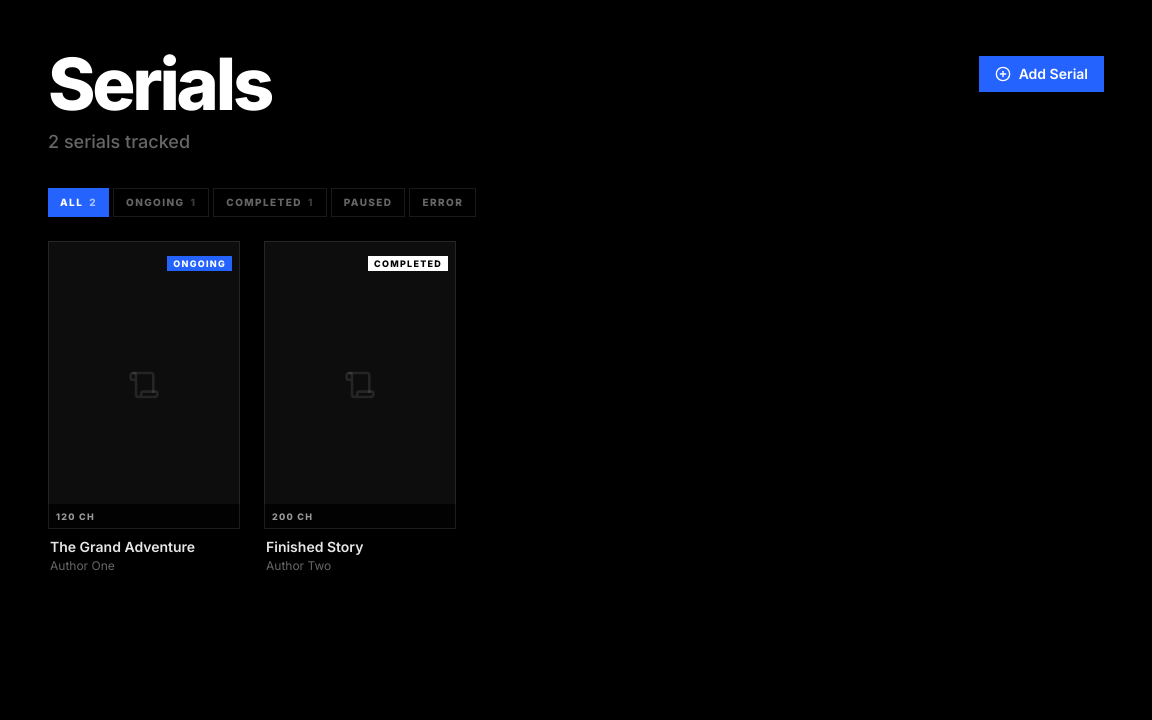
Serials page › shows empty state when filter has no results
Expected: the text "The Grand Adventure" is shown, [50, 538, 195, 555]
Click the button with test id "filter-error": x=443, y=202 [410, 188, 476, 217]
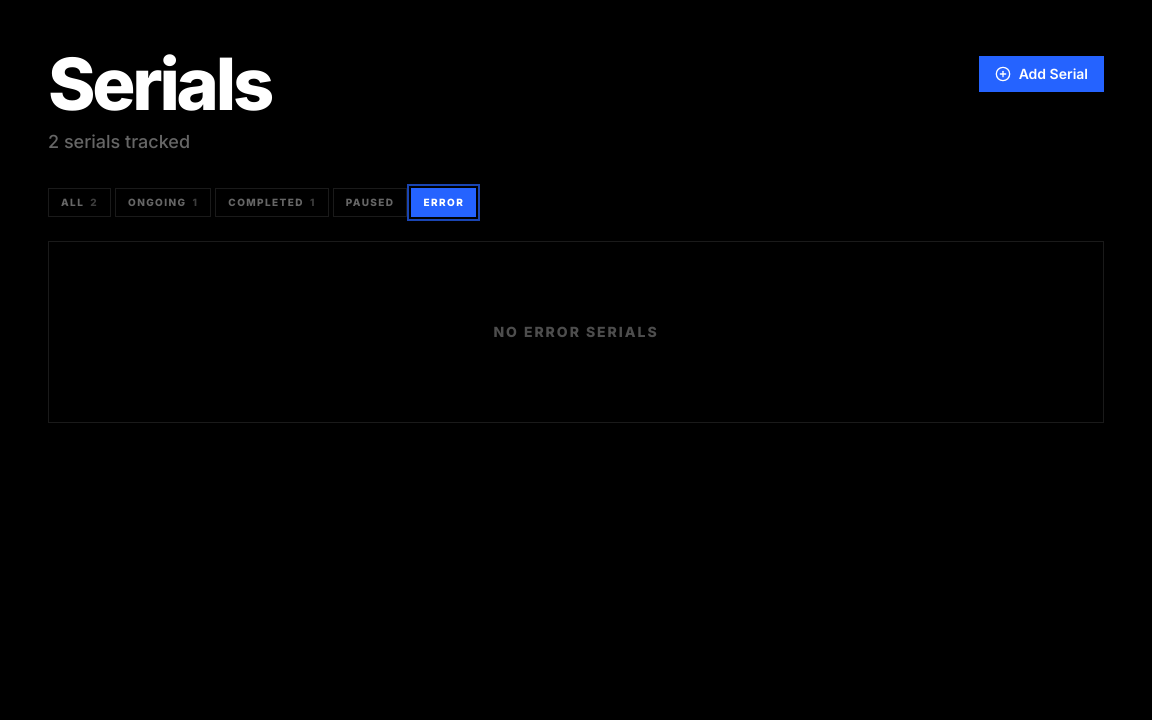
Expected: the element with test id "empty-state" is shown, [48, 241, 1104, 423]
Expected: the text "No error serials" is shown, [493, 323, 659, 340]
